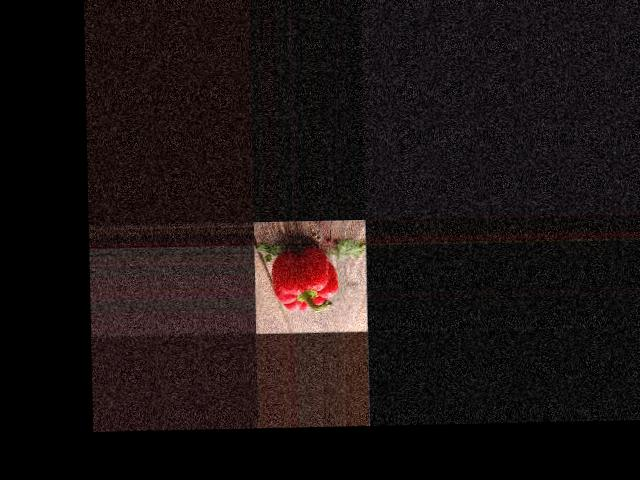bell_pepper: (266, 243, 342, 317)
